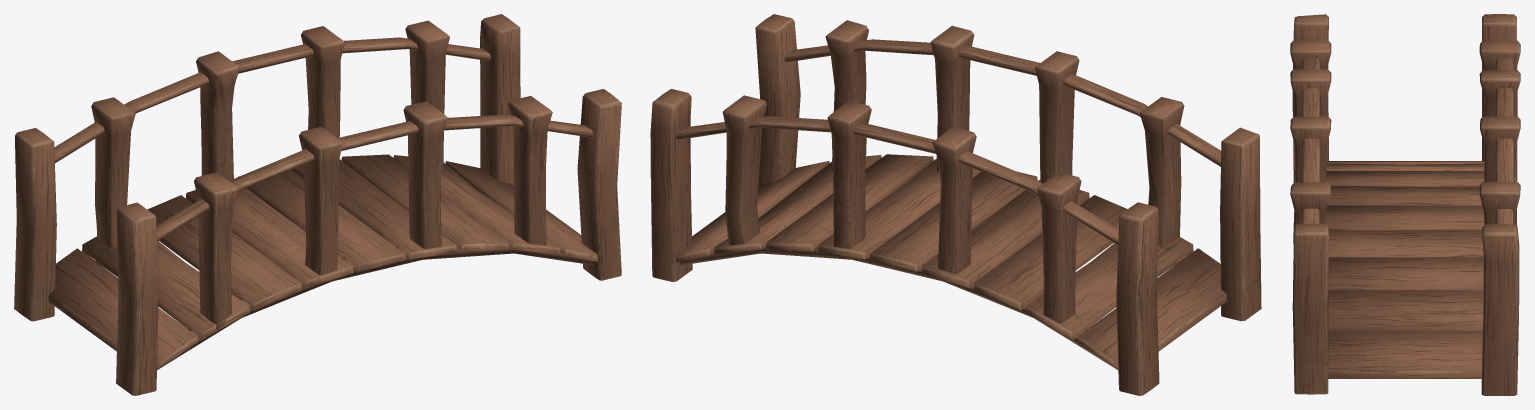
The model's file is stylized_bridge_low_poly.glb.
3 views of the same model, side by side, from view 1: azimuth 30°, elevation 25°; view 2: azimuth 150°, elevation 25°; view 3: azimuth 270°, elevation 25° (orthographic). The views are drawn at different scales.
Visible parts, largest first — view 1: Bridge_low; view 2: Bridge_low; view 3: Bridge_low.
Boxes of the visible parts, box(x1,y1,x2,y2) form: Bridge_low: box(14, 14, 621, 395); Bridge_low: box(650, 14, 1261, 395); Bridge_low: box(1290, 14, 1520, 395).
Size of the model in its own units: 3.83 by 1.53 by 1.68.
Materials: 1 (1 with a texture image).
